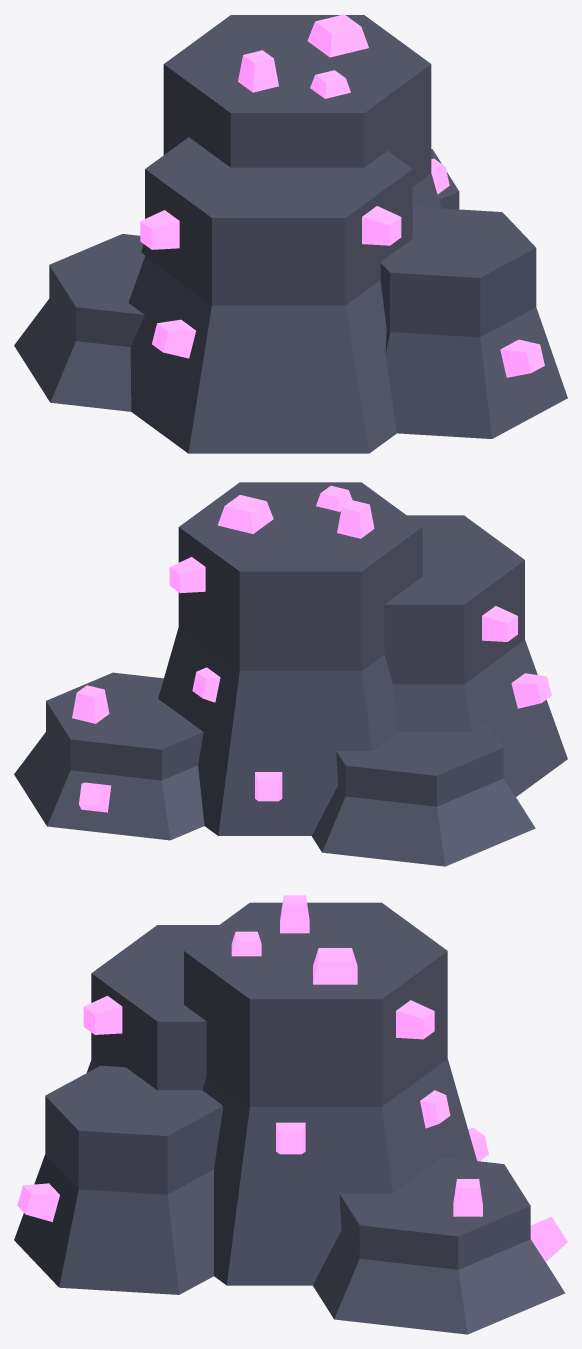
The model's file is rock_crystalsLargeB.glb.
The picture shows the model from 3 angles, top to bottom: view 1: azimuth 30°, elevation 25°; view 2: azimuth 150°, elevation 25°; view 3: azimuth 270°, elevation 25°; orthographic projection. The views are drawn at different scales.
Visible parts, largest first — view 1: rock_crystalsLargeB; view 2: rock_crystalsLargeB; view 3: rock_crystalsLargeB.
Boxes of the visible parts, left/top/right/bottom form: rock_crystalsLargeB: left=14, top=14, right=567, bottom=453; rock_crystalsLargeB: left=14, top=482, right=567, bottom=866; rock_crystalsLargeB: left=14, top=895, right=567, bottom=1334.
Size of the model in its own units: 0.9393 by 0.55 by 0.9321.
